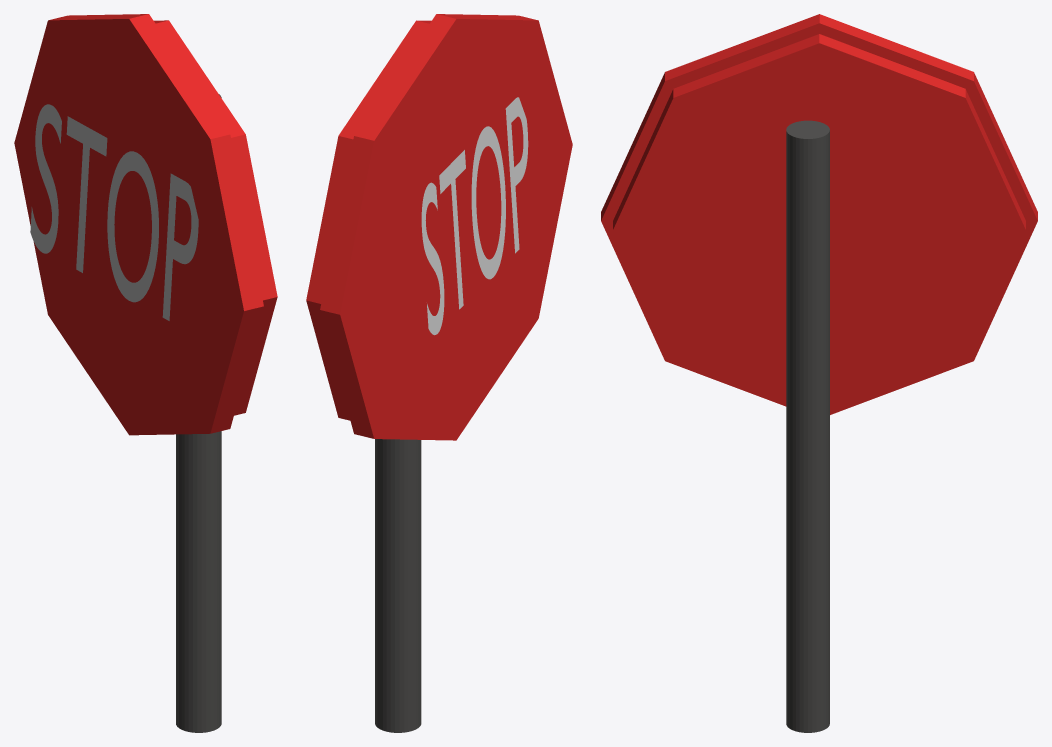
The model's file is StopSign.fbx.
The picture shows the model from 3 angles, left to right: view 1: azimuth 30°, elevation 25°; view 2: azimuth 150°, elevation 25°; view 3: azimuth 270°, elevation 25°; orthographic projection. The views are drawn at different scales.
Visible parts, largest first — view 1: Cylinder.001, Cylinder, Text; view 2: Cylinder.001, Cylinder, Text; view 3: Cylinder.001, Cylinder.
Part boxes in pixels (box(x1,y1,x2,y2)): Cylinder.001: box(14, 14, 277, 435); Cylinder: box(176, 94, 221, 732); Text: box(30, 104, 198, 320); Cylinder.001: box(306, 14, 572, 440); Cylinder: box(375, 439, 421, 732); Text: box(421, 97, 528, 335); Cylinder.001: box(601, 14, 1037, 414); Cylinder: box(786, 120, 829, 732).
Size of the model in its own units: 5.98 by 34.36 by 20.
